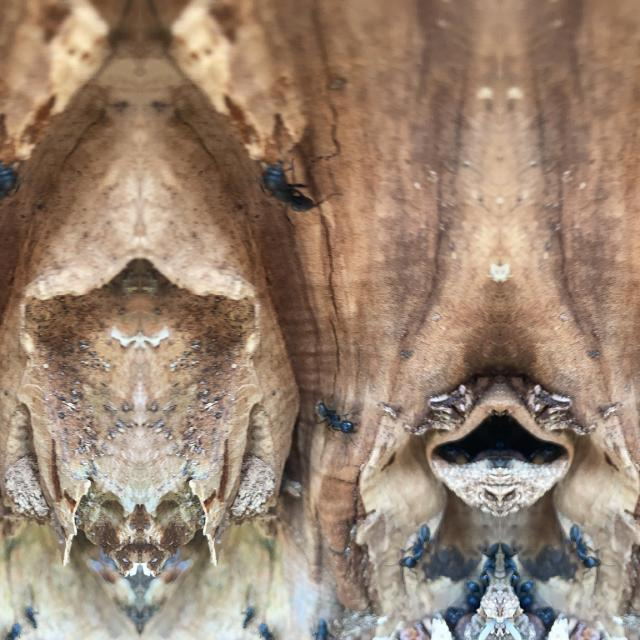Camponotus: (256, 145, 320, 235), (396, 510, 438, 584), (562, 510, 604, 584), (312, 390, 358, 450), (0, 145, 24, 235), (452, 574, 492, 618), (508, 574, 548, 618), (474, 530, 498, 588), (502, 530, 526, 588), (307, 615, 347, 639), (238, 599, 258, 639), (22, 599, 42, 639), (255, 616, 282, 640), (0, 616, 24, 638)
